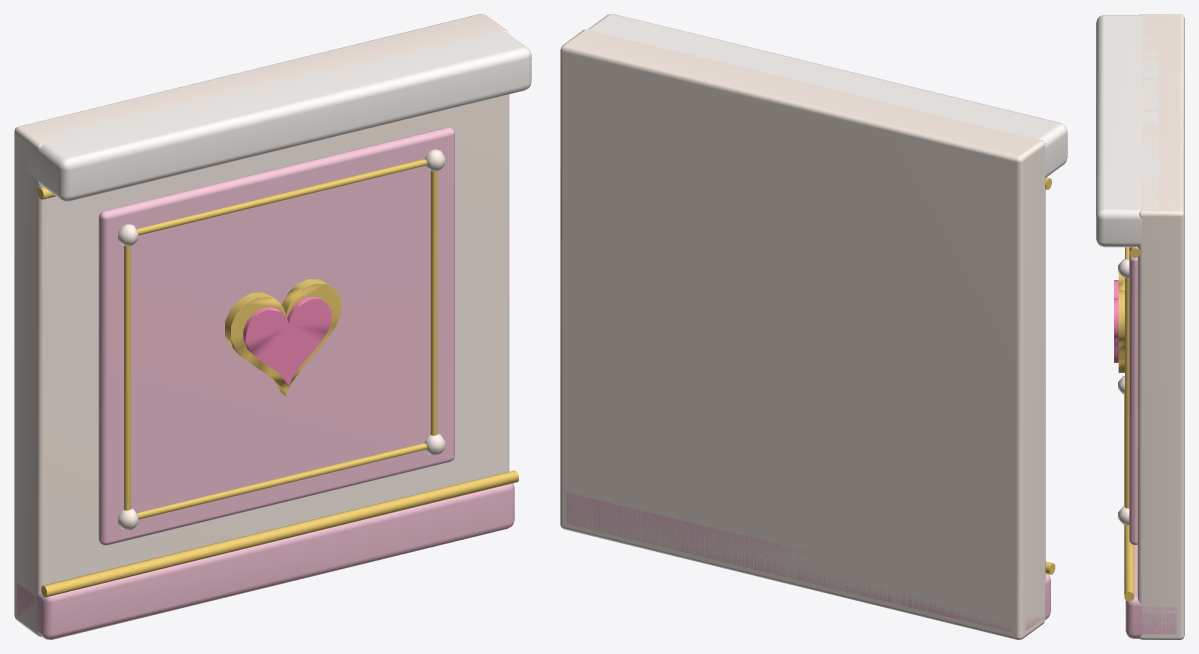
Rendered from wall_plain.glb.
3 renders of one model, left to right at view 1: azimuth 30°, elevation 25°; view 2: azimuth 150°, elevation 25°; view 3: azimuth 270°, elevation 25°, orthographic. The views are drawn at different scales.
Parts seen in each view (by area): view 1: wall_plain; view 2: wall_plain; view 3: wall_plain.
Part boxes in pixels (left/top/right/bottom): wall_plain: left=14, top=14, right=531, bottom=639; wall_plain: left=560, top=14, right=1067, bottom=639; wall_plain: left=1096, top=14, right=1184, bottom=639.
Size of the model in its own units: 4 by 4 by 0.75.
